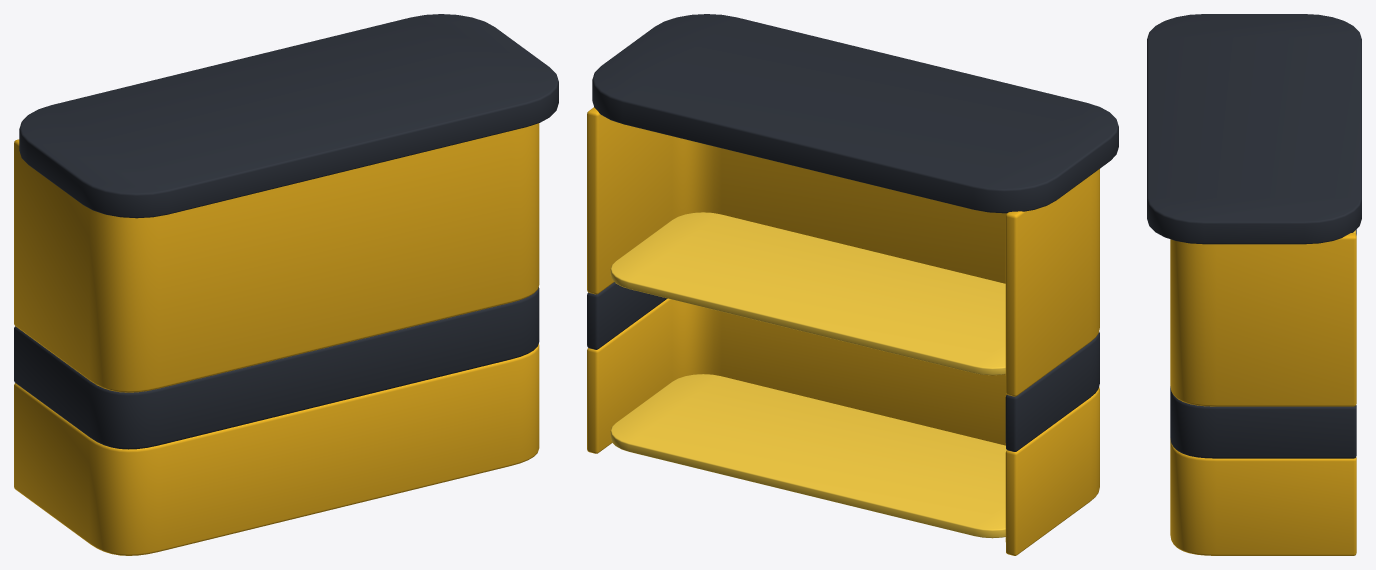
File: balcao_listrado_amarelo.glb
3 renders of one model, left to right at view 1: azimuth 30°, elevation 25°; view 2: azimuth 150°, elevation 25°; view 3: azimuth 270°, elevation 25°, orthographic. The views are drawn at different scales.
Visible parts, largest first — view 1: balcao_listrado_amarelo; view 2: balcao_listrado_amarelo; view 3: balcao_listrado_amarelo.
Part boxes in pixels (left/top/right/bottom): balcao_listrado_amarelo: left=14, top=14, right=558, bottom=555; balcao_listrado_amarelo: left=587, top=14, right=1118, bottom=555; balcao_listrado_amarelo: left=1147, top=14, right=1361, bottom=555.
Bounding box in the file's own units: 1.38 × 1.05 × 0.6.
Materials: 1 (1 with a texture image).
